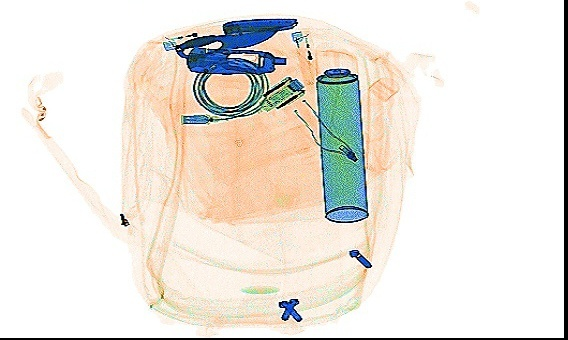knife: (173, 25, 285, 59), (184, 44, 286, 75), (219, 14, 298, 36)
lighter: (160, 14, 230, 51), (289, 27, 322, 87)
pressure: (310, 42, 369, 223)
